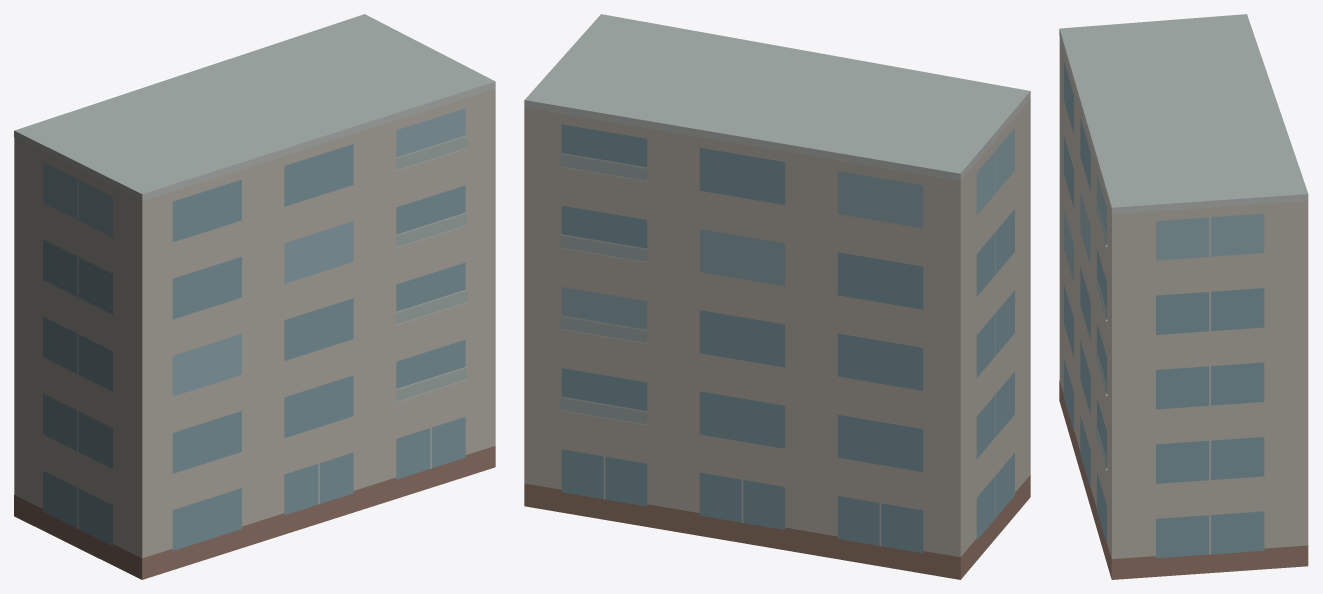
The model's file is survey-upis-32894587.glb.
The picture shows the model from 3 angles, left to right: view 1: azimuth 30°, elevation 25°; view 2: azimuth 150°, elevation 25°; view 3: azimuth 270°, elevation 25°; orthographic projection. The views are drawn at different scales.
Parts seen in each view (by area): view 1: survey-upis-32894587.tmp; view 2: survey-upis-32894587.tmp; view 3: survey-upis-32894587.tmp.
Part boxes in pixels (x1,y1,x2,y2): survey-upis-32894587.tmp: (14,14,495,579); survey-upis-32894587.tmp: (524,14,1030,579); survey-upis-32894587.tmp: (1059,14,1308,579).
Size of the model in its own units: 14.75 by 13.2 by 8.01.
